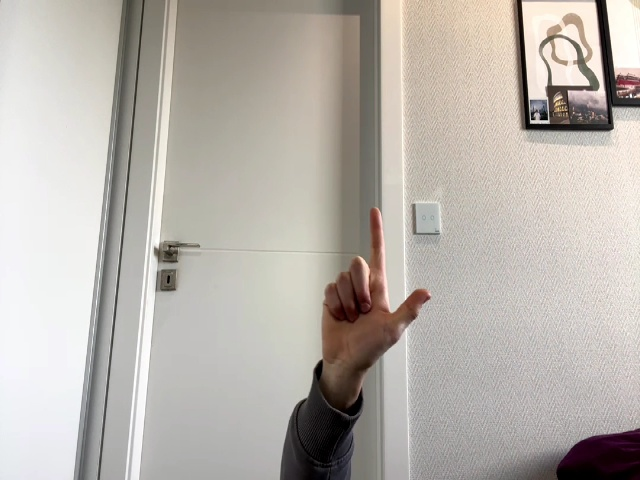L: (322, 207, 431, 379)
